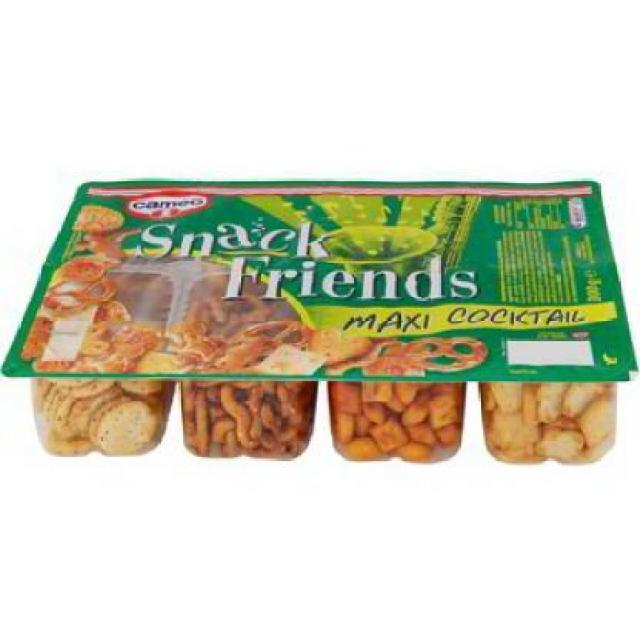Salatini: (7, 179, 638, 476)
